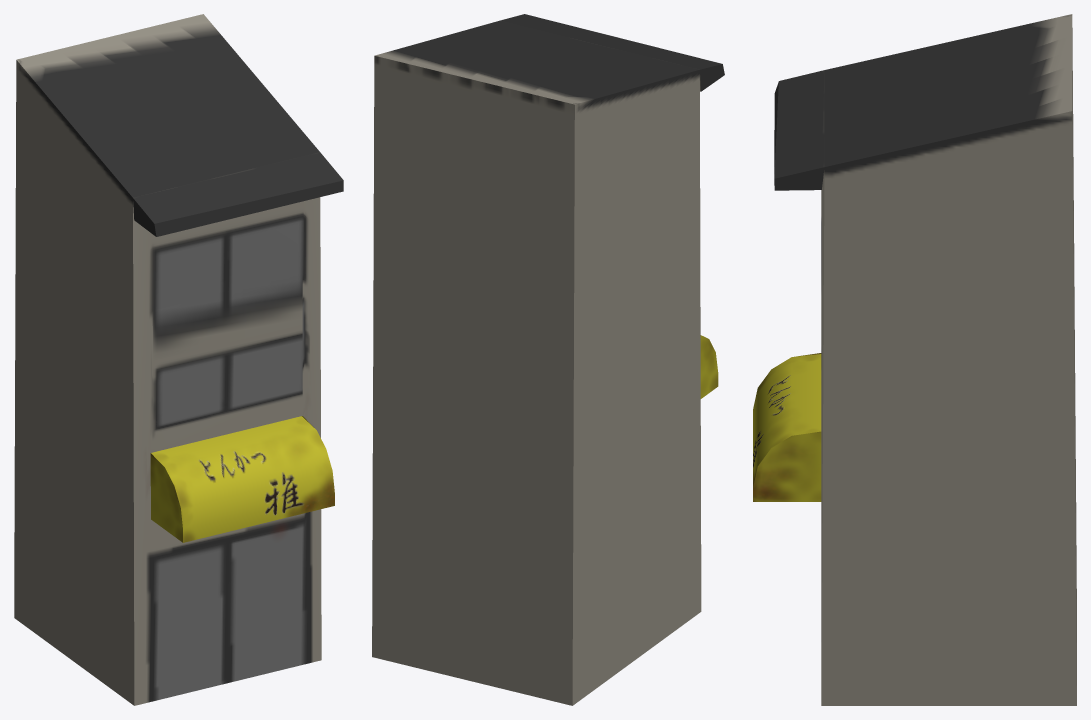
The model's file is bill2.fbx.
3 views of the same model, side by side, from view 1: azimuth 30°, elevation 25°; view 2: azimuth 150°, elevation 25°; view 3: azimuth 270°, elevation 25° (orthographic). The views are drawn at different scales.
Parts seen in each view (by area): view 1: bill2_bill2_pCube2; view 2: bill2_bill2_pCube2; view 3: bill2_bill2_pCube2.
Part boxes in pixels (x1,y1,x2,y2): bill2_bill2_pCube2: [14, 14, 343, 705]; bill2_bill2_pCube2: [372, 14, 724, 705]; bill2_bill2_pCube2: [753, 14, 1076, 705].
Size of the model in its own units: 0.0467 by 0.1334 by 0.0658.
Materials: 1 (1 with a texture image).
